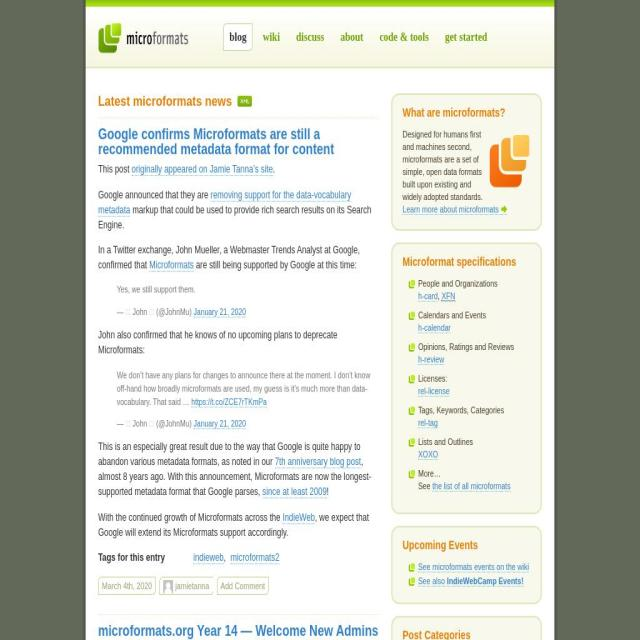button: (98, 188, 351, 217), (131, 163, 273, 177), (373, 23, 436, 51), (438, 23, 494, 51), (402, 204, 507, 216), (418, 562, 529, 573), (418, 576, 524, 587), (98, 576, 156, 596), (274, 456, 362, 469), (290, 23, 330, 51), (159, 576, 213, 596), (216, 576, 269, 596), (334, 23, 370, 51), (432, 481, 511, 492), (262, 486, 327, 499), (223, 23, 253, 51), (256, 23, 286, 51), (192, 396, 268, 407), (148, 259, 194, 273), (230, 551, 279, 564), (193, 418, 246, 430), (193, 307, 246, 318), (282, 511, 316, 524), (193, 551, 224, 564), (418, 323, 451, 334), (418, 386, 449, 397), (418, 354, 444, 366), (418, 449, 438, 461), (418, 291, 438, 302), (418, 418, 438, 429), (442, 291, 456, 302)
heading: (98, 125, 334, 158), (98, 621, 378, 639), (98, 24, 188, 54), (98, 93, 235, 109), (402, 255, 530, 269), (402, 538, 530, 552), (402, 106, 530, 119), (402, 628, 530, 640), (98, 551, 165, 563), (237, 96, 252, 107)
image: (490, 135, 530, 188), (163, 580, 174, 594)
link: (447, 576, 524, 586), (442, 291, 456, 302)
text: (98, 456, 371, 498), (117, 369, 370, 407), (98, 328, 379, 358), (98, 203, 372, 231), (98, 244, 360, 272), (98, 511, 369, 538), (98, 441, 361, 468), (402, 129, 482, 203), (117, 282, 379, 296), (98, 511, 283, 523), (193, 259, 357, 272), (408, 277, 530, 291), (408, 309, 530, 323), (408, 372, 530, 386), (408, 404, 530, 418), (408, 467, 530, 481), (408, 341, 530, 354), (408, 436, 530, 449), (98, 188, 211, 201), (117, 306, 194, 318), (117, 418, 194, 429), (102, 580, 152, 592), (173, 580, 210, 592), (98, 163, 132, 176), (418, 576, 447, 586), (418, 481, 433, 492), (223, 551, 228, 563), (437, 290, 442, 302), (326, 486, 329, 498), (273, 163, 275, 176)
